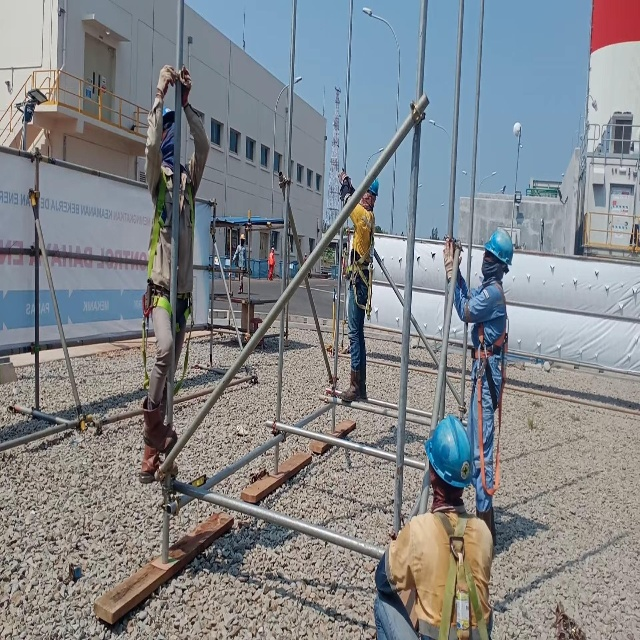Arnes_seguridad: (141, 161, 197, 400), (426, 508, 487, 640), (472, 275, 508, 498), (345, 204, 379, 318)
